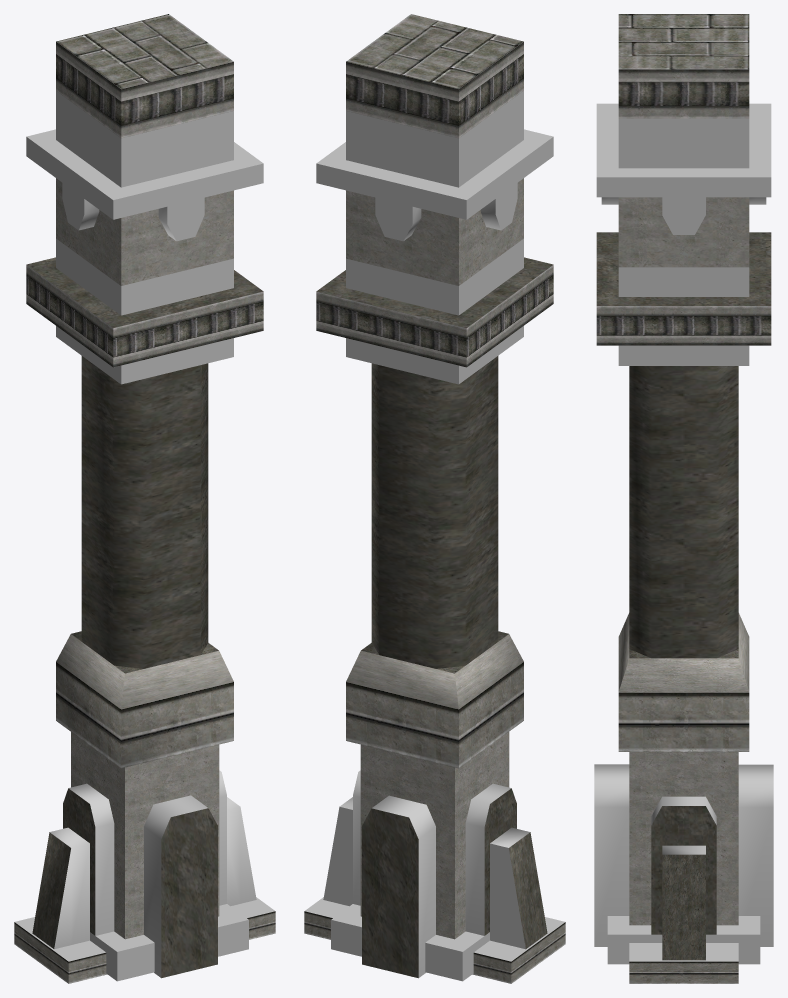
File: L_MOUNTAIN_BALK_COLUMN01.obj
3 renders of one model, left to right at view 1: azimuth 30°, elevation 25°; view 2: azimuth 150°, elevation 25°; view 3: azimuth 270°, elevation 25°, orthographic.
Visible parts, largest first — view 1: n_balk_column01; view 2: n_balk_column01; view 3: n_balk_column01.
Boxes of the visible parts, x1,y1,x2,y2 form: n_balk_column01: (14, 14, 275, 983); n_balk_column01: (304, 14, 565, 983); n_balk_column01: (594, 14, 773, 983).
Size of the model in its own units: 220 by 901 by 164.
